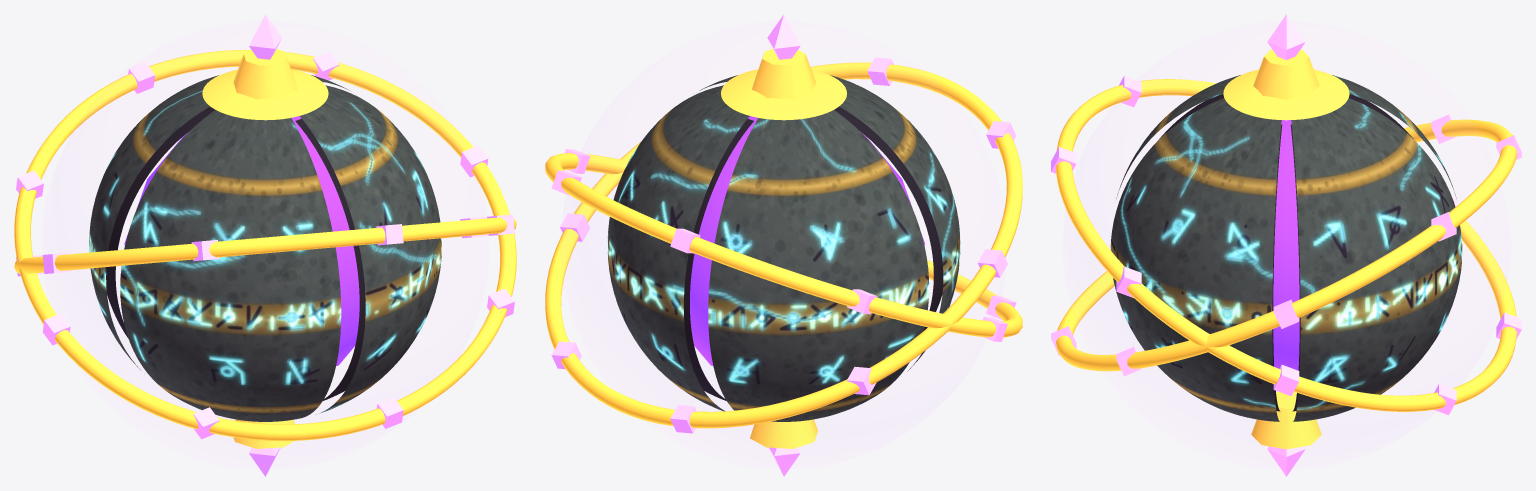
The model's file is kb_ball_v35.glb.
3 renders of one model, left to right at view 1: azimuth 30°, elevation 25°; view 2: azimuth 150°, elevation 25°; view 3: azimuth 270°, elevation 25°, orthographic.
Parts seen in each view (by area): view 1: artifact_shell, artifact_gold, artifact_inner (×2), artifact_core, artifact_gem (×2), artifact_stud (×2); view 2: artifact_shell, artifact_gold, artifact_inner (×2), artifact_core, artifact_stud (×5), artifact_gem (×2); view 3: artifact_shell, artifact_gold, artifact_core, artifact_gem (×2), artifact_stud (×2).
Part boxes in pixels (box(x1,y1,x2,y2)): artifact_shell: box(89, 75, 441, 421); artifact_gold: box(14, 49, 516, 448); artifact_inner (×2): box(106, 106, 365, 400); artifact_core: box(124, 116, 359, 365); artifact_gem (×2): box(249, 14, 281, 476); artifact_stud (×2): box(128, 62, 403, 428); artifact_shell: box(607, 75, 960, 421); artifact_gold: box(545, 49, 1022, 448); artifact_inner (×2): box(683, 106, 943, 400); artifact_core: box(690, 116, 924, 365); artifact_stud (×5): box(560, 57, 1007, 433); artifact_gem (×2): box(767, 14, 800, 476); artifact_shell: box(1110, 75, 1462, 421); artifact_gold: box(1056, 49, 1516, 449); artifact_core: box(1273, 120, 1299, 370); artifact_gem (×2): box(1267, 14, 1305, 476); artifact_stud (×2): box(1273, 299, 1299, 395).
Size of the model in its own units: 1.57 by 1.59 by 1.47.
26 materials, 1 textured.
